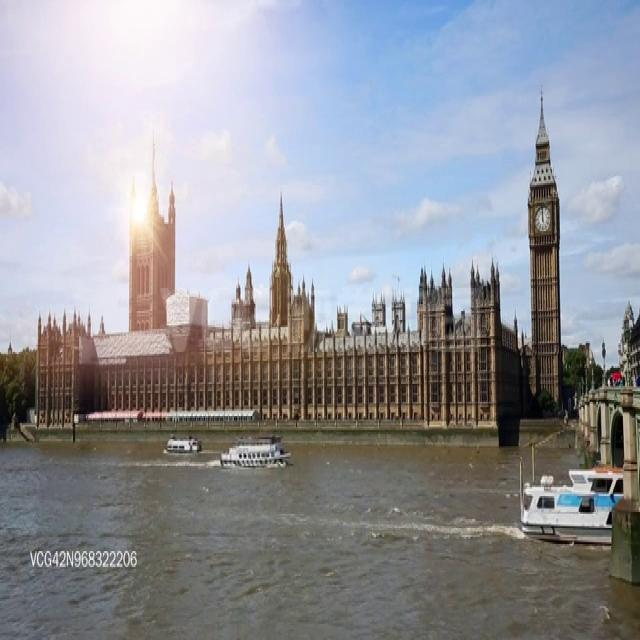passenger ship: (513, 440, 631, 547), (216, 427, 286, 470), (162, 429, 200, 455)
